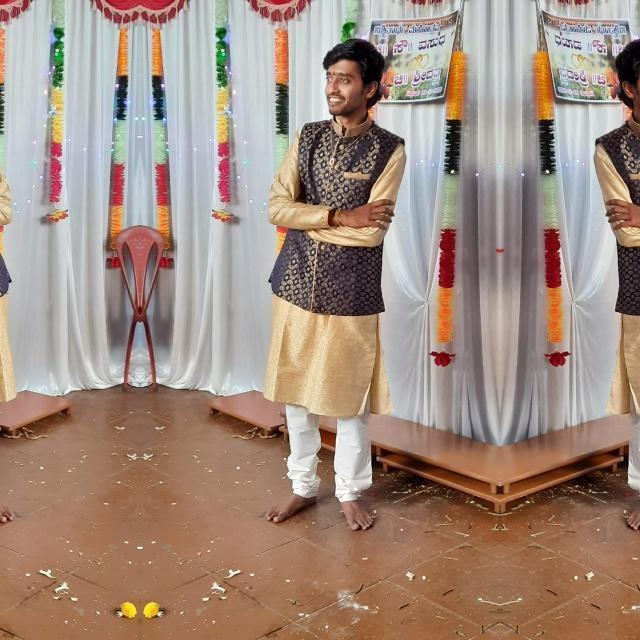person: (274, 46, 388, 534), (611, 45, 640, 534), (0, 45, 4, 534)
